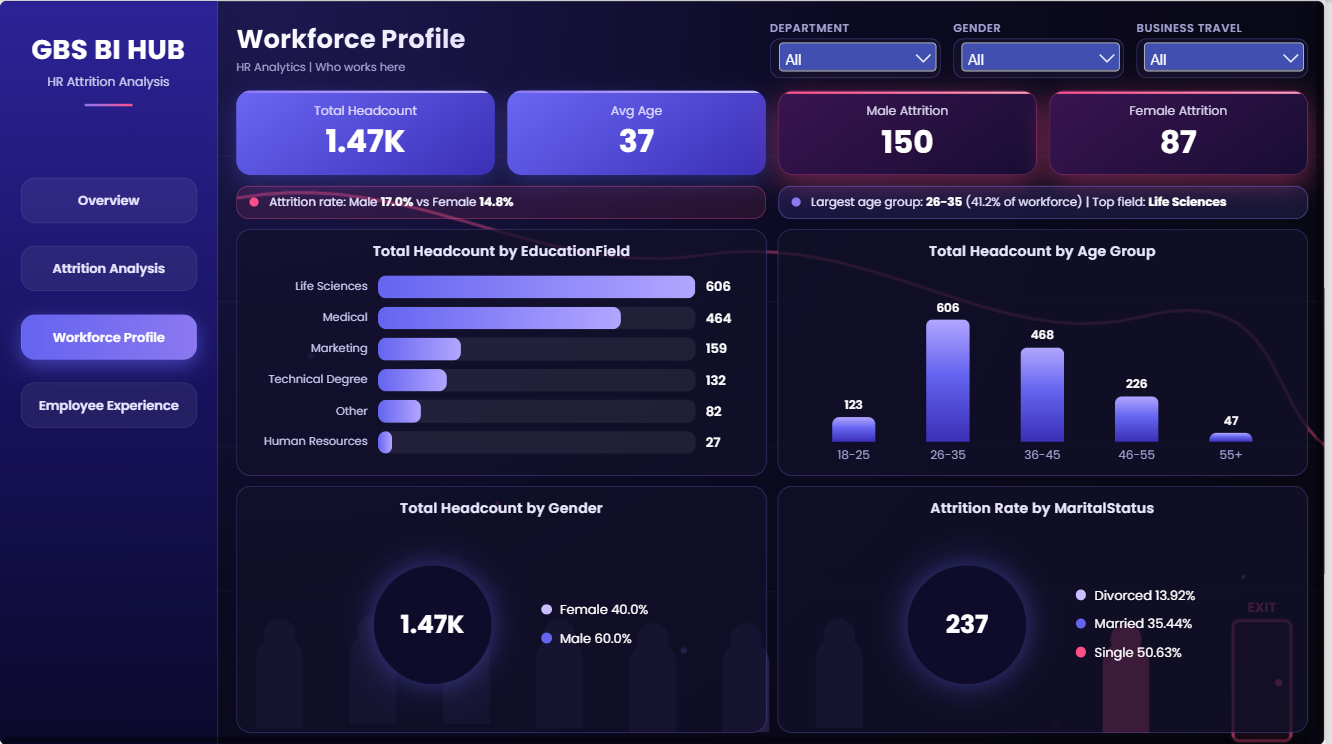

What the dashboard file says about the page in this screenshot:
{"tool":"powerbi","page":{"name":"Workforce Profile","canvas":[1280,720],"ordinal":3},"visuals":[{"type":"htmlContent443BE3AD55E043BF878BED274D3A6855","fields":{"content":["DAX.HR Workforce Profile HTML"]},"box":[0,0,1280,720.2],"z":0},{"type":"slicer","fields":{"Values":["Department_Dim.Department"]},"box":[748,36.2,161.7,41],"z":1000},{"type":"slicer","fields":{"Values":["Employee_Dim.Gender"]},"box":[924.1,36.2,162.9,42.2],"z":2000},{"type":"slicer","fields":{"Values":["Employee_Fact.BusinessTravel"]},"box":[1100.3,36.2,164.1,37.4],"z":3000},{"type":"actionButton","box":[22.9,170.1,167.7,43.4],"z":4000},{"type":"actionButton","box":[22.9,237.7,167.7,39.8],"z":5000},{"type":"actionButton","box":[22.9,371.6,167.7,42.2],"z":6000}]}

Visuals, with their boxes in screenshot pixels (x1, y1, x2, y2), scaled from the page's 1280x720 canvas onto the 1332x744 screenshot:
htmlContent443BE3AD55E043BF878BED274D3A6855 - DAX.HR Workforce Profile HTML: region(0, 0, 1331, 743)
slicer - Department_Dim.Department: region(778, 37, 947, 80)
slicer - Employee_Dim.Gender: region(962, 37, 1131, 81)
slicer - Employee_Fact.BusinessTravel: region(1145, 37, 1316, 76)
actionButton: region(24, 176, 198, 221)
actionButton: region(24, 246, 198, 287)
actionButton: region(24, 384, 198, 428)
